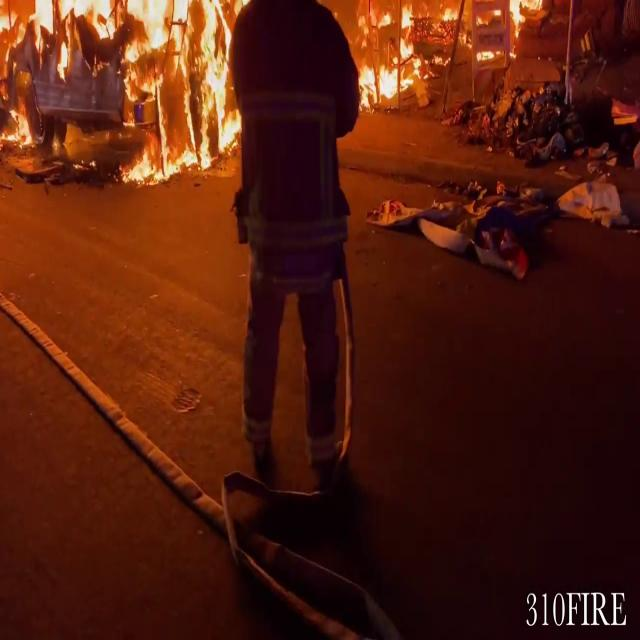Fire: (0, 0, 253, 179), (359, 2, 427, 112)
